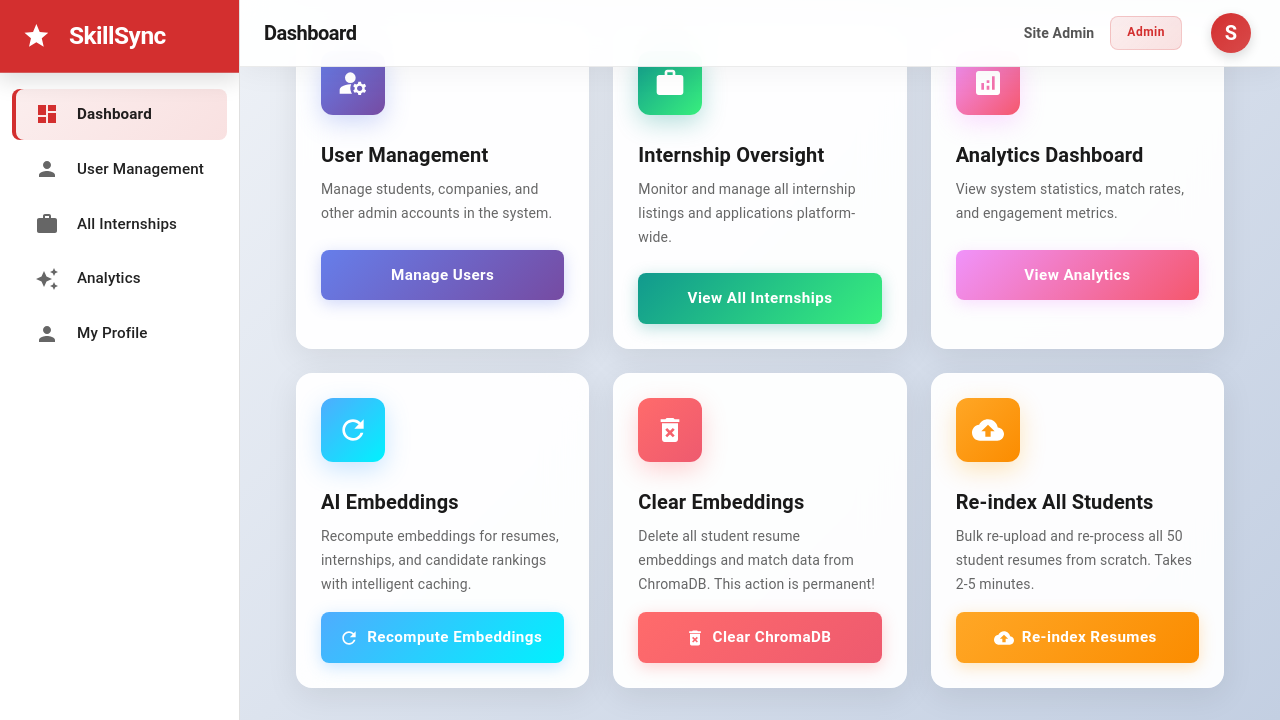
Test: a failed recompute shows the reason the API gave
The width and height of the screenshot is (1280, 720).
(page scrolled)
Click the button "Recompute Embeddings" at (443,638), box [321,612,564,663]
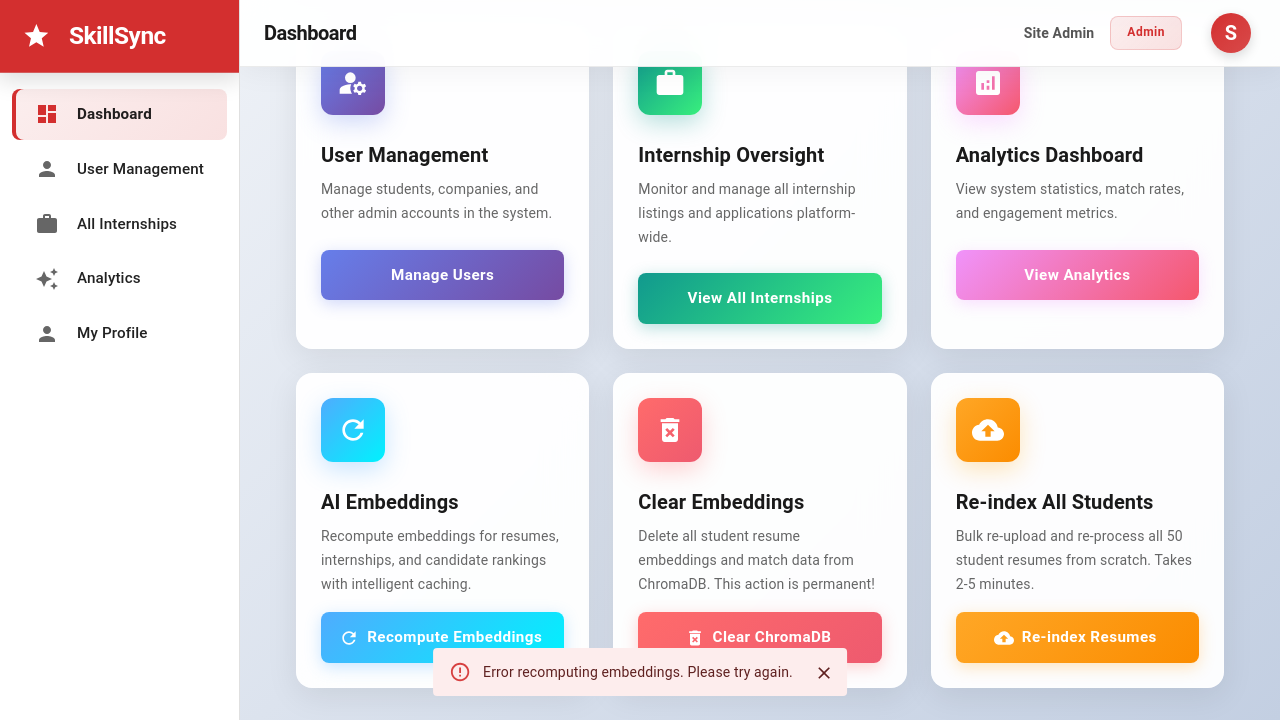
Expected: the text "Error recomputing embeddings. Please try again." is shown, [483,664,793,680]
